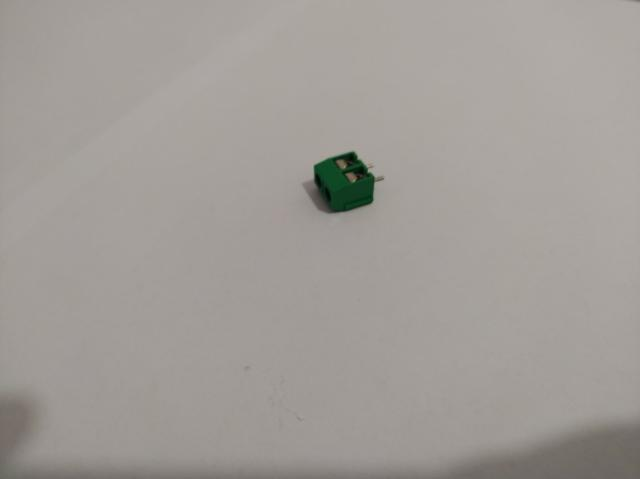terminal_block: (314, 152, 384, 212)
